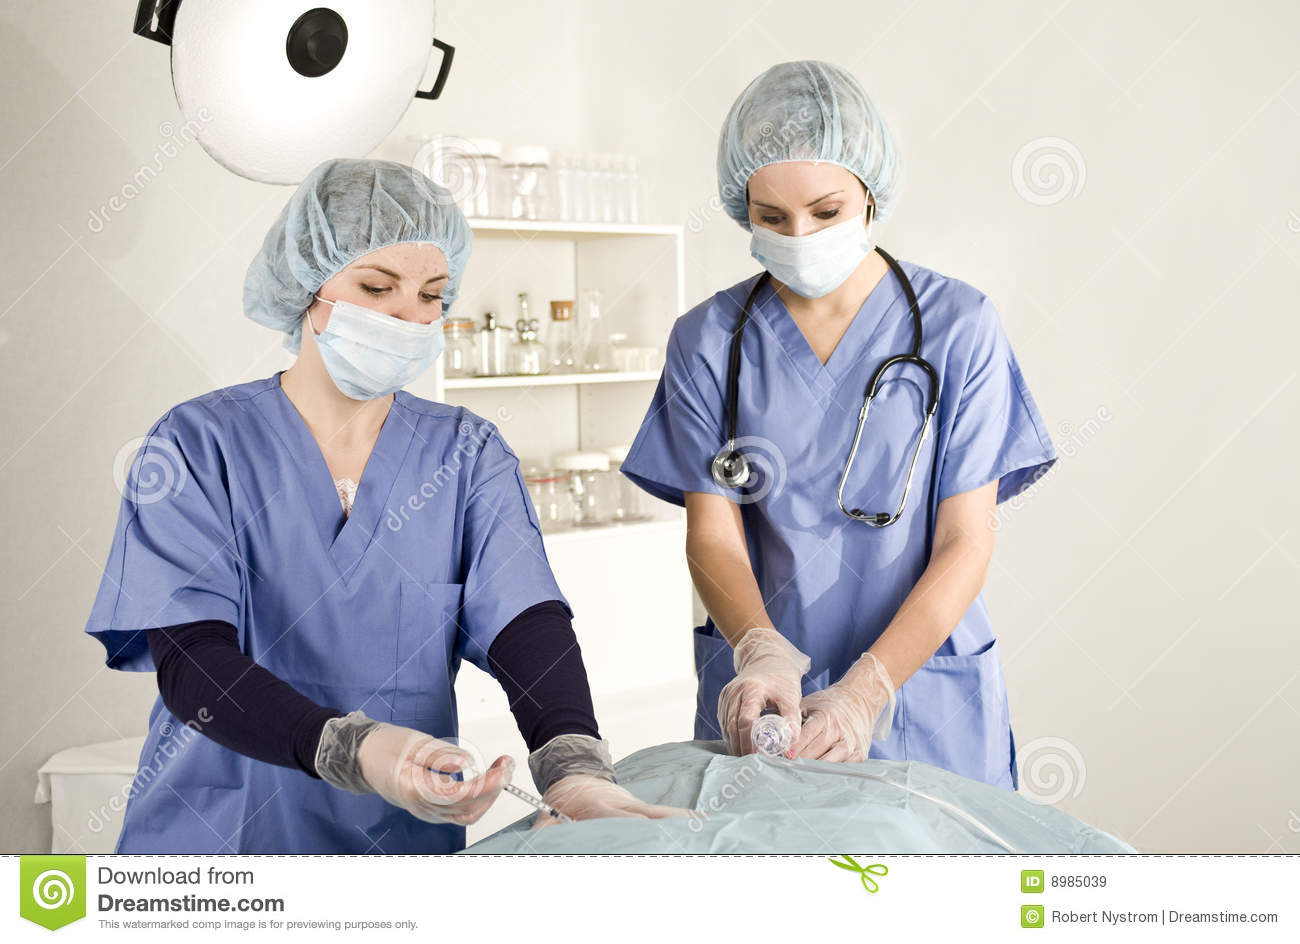mask: (304, 304, 451, 409), (750, 217, 879, 304)
